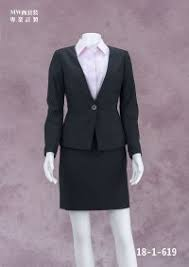F_tailored skirt: (56, 139, 133, 217)
S_business casual jacket: (38, 46, 149, 162)
